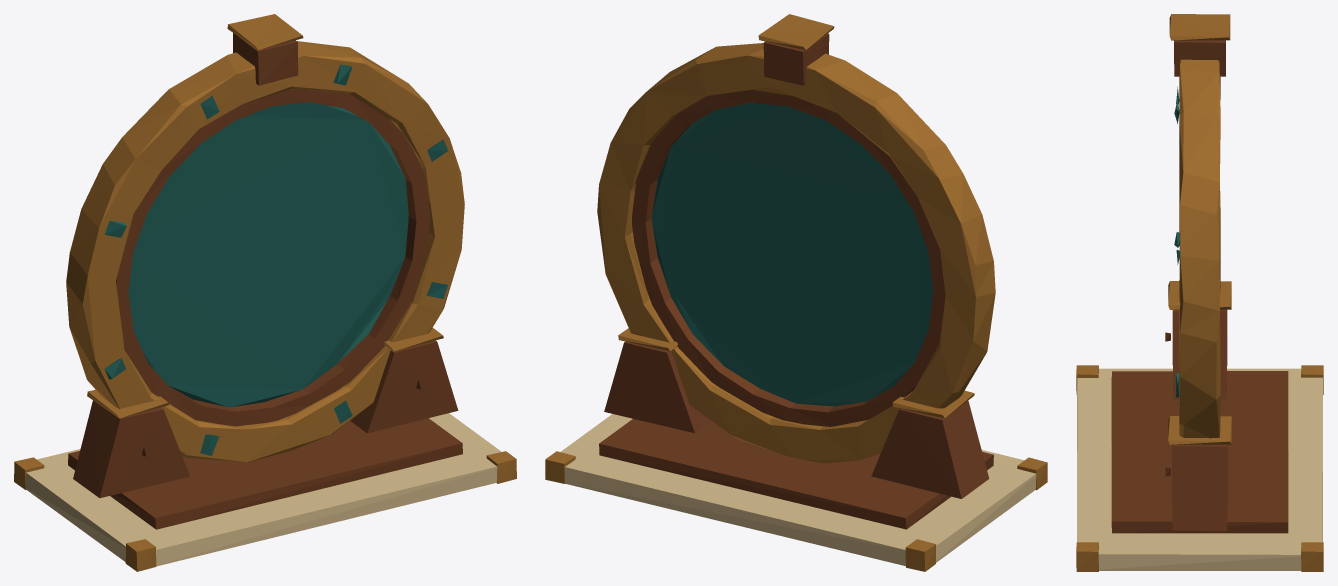
File: portal_ring_lod1.obj
3 views of the same model, side by side, from view 1: azimuth 30°, elevation 25°; view 2: azimuth 150°, elevation 25°; view 3: azimuth 270°, elevation 25° (orthographic).
Visible parts, largest first — view 1: portal_ring_lod1; view 2: portal_ring_lod1; view 3: portal_ring_lod1.
Boxes of the visible parts, x1,y1,x2,y2 form: portal_ring_lod1: [14, 14, 516, 571]; portal_ring_lod1: [545, 14, 1047, 571]; portal_ring_lod1: [1076, 14, 1323, 571].
Bounding box in the file's own units: 3.2 × 3.61 × 1.78.
